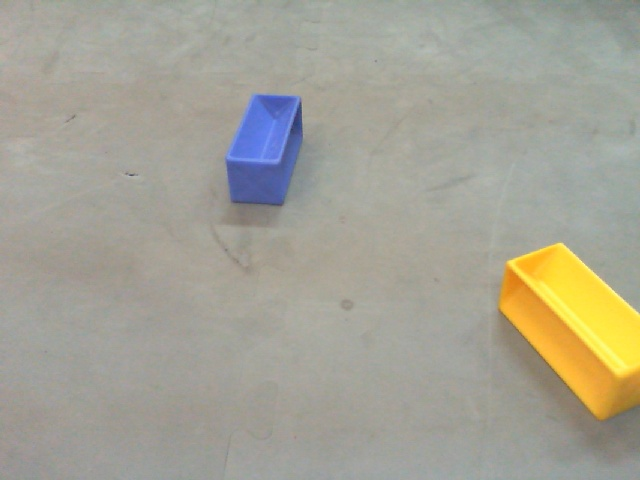BlueSample: (225, 88, 306, 211)
YellowSample: (496, 242, 640, 420)
